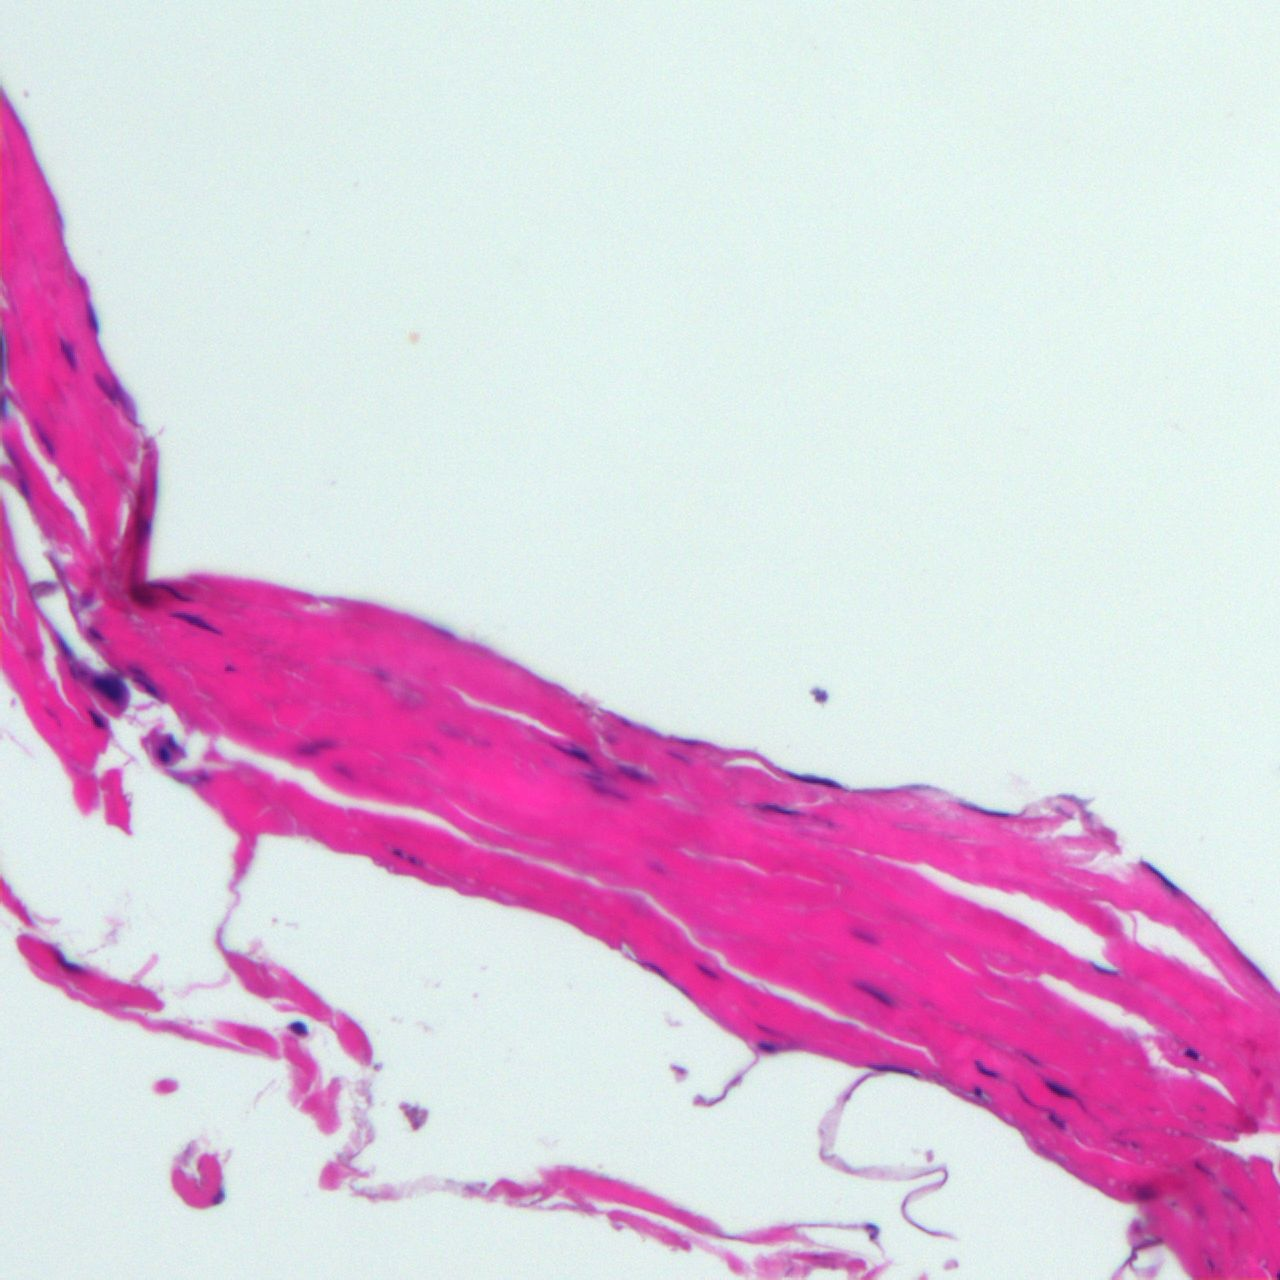dust: (809, 686, 829, 704), (286, 1021, 306, 1035)
nucleus-HE: (639, 956, 691, 1000), (850, 970, 900, 1012), (21, 410, 59, 462), (169, 606, 224, 638), (50, 329, 85, 377), (1139, 856, 1182, 895), (551, 736, 599, 768), (76, 293, 107, 341), (790, 767, 845, 792), (90, 670, 125, 705), (959, 796, 1010, 820), (146, 576, 189, 603), (90, 370, 120, 407), (49, 946, 83, 978), (1041, 1074, 1076, 1105), (751, 797, 801, 818), (386, 843, 426, 868), (131, 673, 164, 700), (616, 761, 652, 785), (868, 1061, 918, 1076), (846, 924, 877, 948), (1190, 1157, 1217, 1184), (1089, 956, 1118, 979), (164, 733, 189, 759), (1042, 1106, 1068, 1131), (694, 959, 721, 983), (54, 631, 75, 660), (971, 1059, 997, 1082), (755, 1039, 778, 1052), (89, 707, 101, 730), (1182, 1046, 1199, 1060), (157, 745, 169, 763), (89, 625, 100, 640), (973, 1086, 981, 1097)
